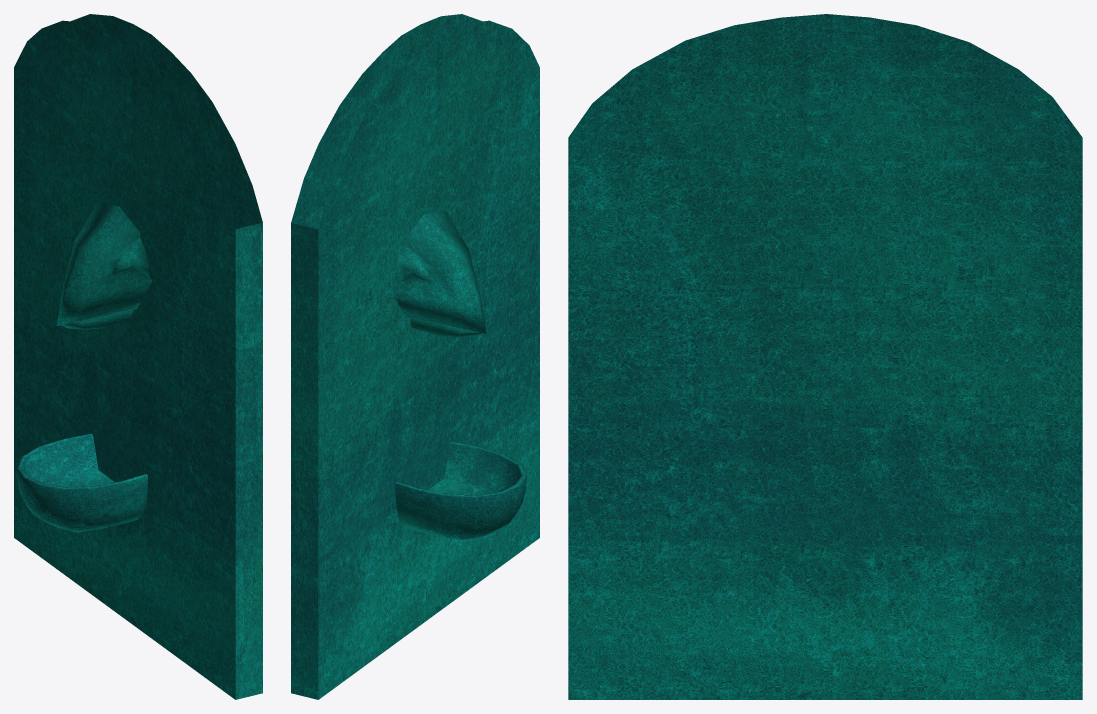
Rendered from cyanDoor.fbx.
The picture shows the model from 3 angles, left to right: view 1: azimuth 30°, elevation 25°; view 2: azimuth 150°, elevation 25°; view 3: azimuth 270°, elevation 25°; orthographic projection. The views are drawn at different scales.
Visible parts, largest first — view 1: exitDoorC, bowl, eagleTop, eagleBottom; view 2: exitDoorC, bowl, eagleTop, eagleBottom; view 3: exitDoorC.
Boxes of the visible parts, <box> form: exitDoorC: <box>14,14,262,699</box>; bowl: <box>16,433,147,532</box>; eagleTop: <box>56,202,152,325</box>; eagleBottom: <box>61,310,133,329</box>; exitDoorC: <box>291,14,539,699</box>; bowl: <box>395,441,526,540</box>; eagleTop: <box>391,210,486,333</box>; eagleBottom: <box>410,318,481,337</box>; exitDoorC: <box>568,14,1082,699</box>.
Size of the model in its own units: 1.62 by 7.22 by 5.03.
